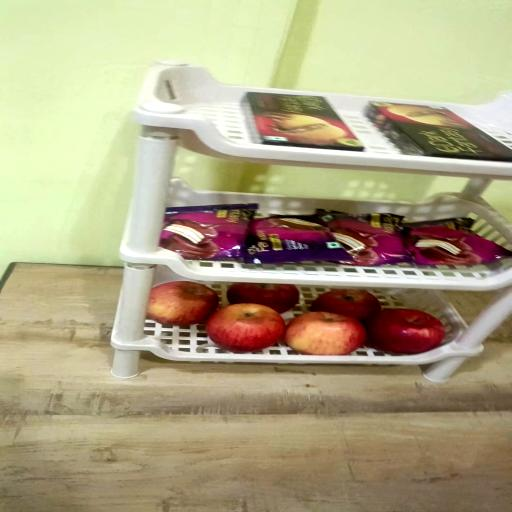Apple: (207, 304, 287, 352), (366, 310, 445, 356), (284, 312, 366, 356), (146, 282, 220, 327), (311, 289, 381, 321), (227, 283, 299, 314)
Choco Fills: (366, 102, 512, 161), (246, 92, 366, 150)
Choco Pie: (161, 206, 261, 262), (315, 212, 412, 268), (242, 215, 347, 264), (404, 219, 511, 267)
